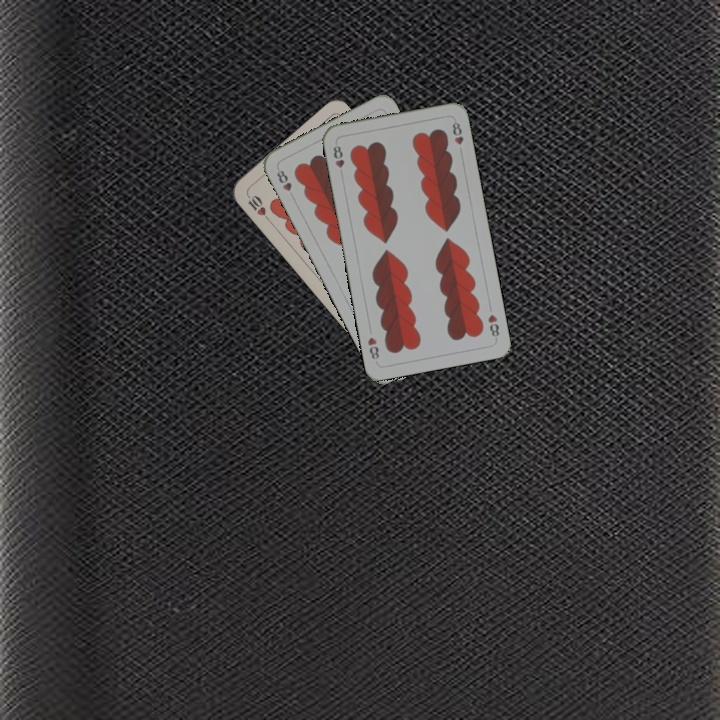H10: (243, 190, 273, 224)
H8: (273, 166, 294, 194), (484, 310, 502, 342), (329, 139, 347, 170)
